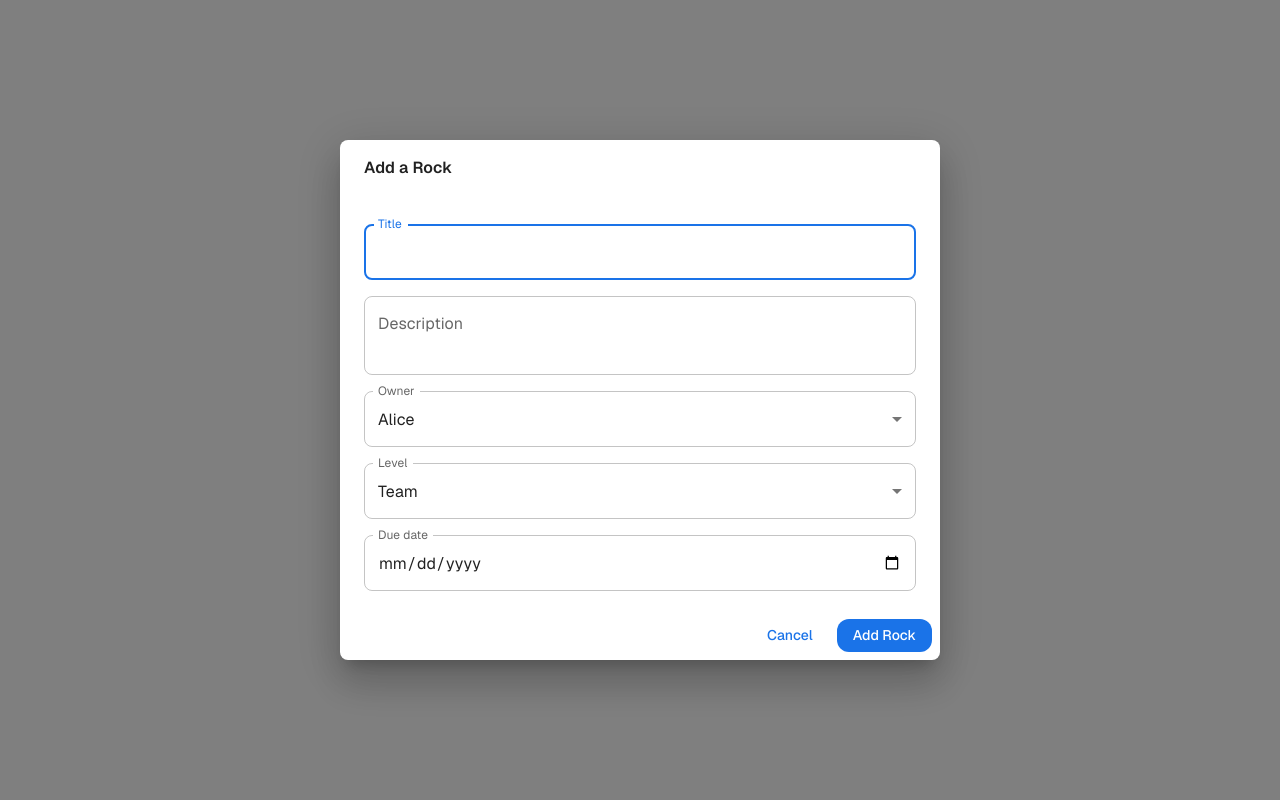
it: CreateRockDialog › offers only the allowed levels (B1 — no guaranteed-forbidden option)
Click the dropdown named "Level" at (398, 492), box [378,481,418,502]
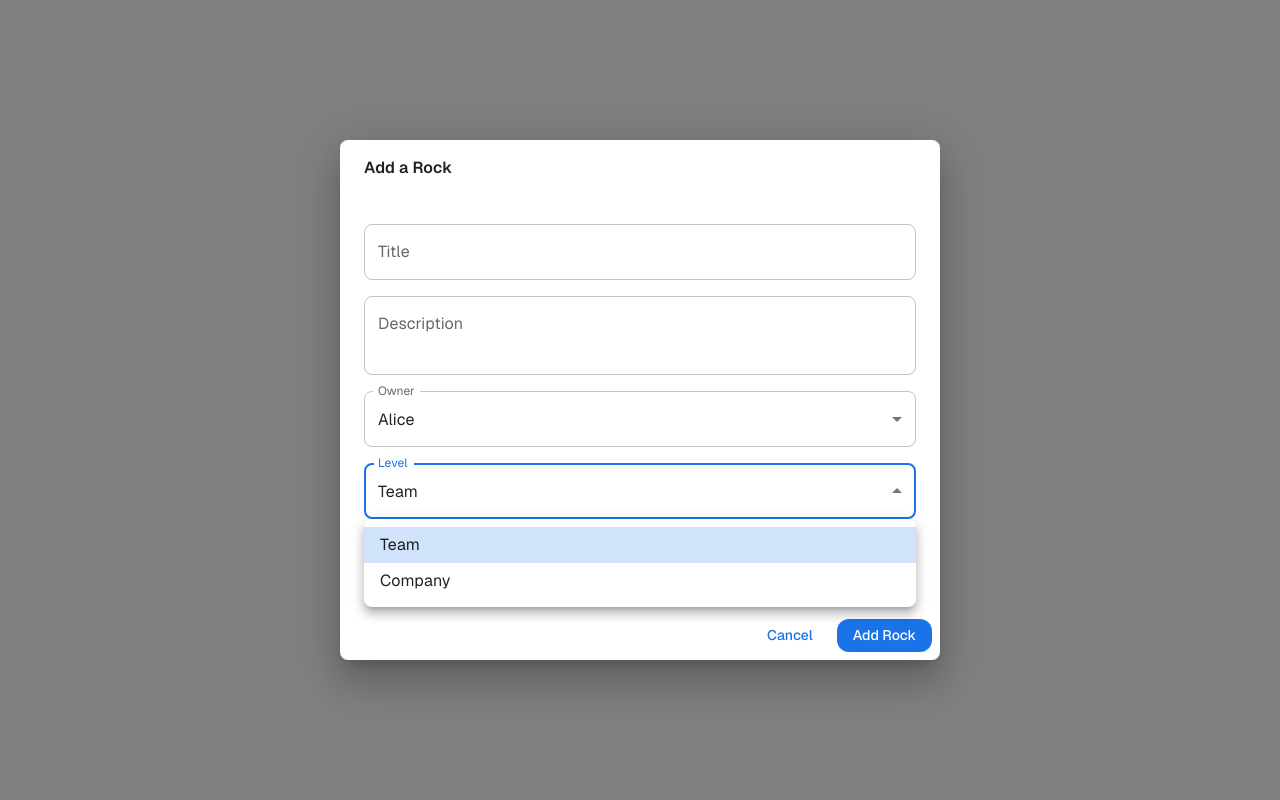
Result: the option "Team" is shown at [364,527,916,563]
Result: the option "Company" is shown at [380,570,451,591]
